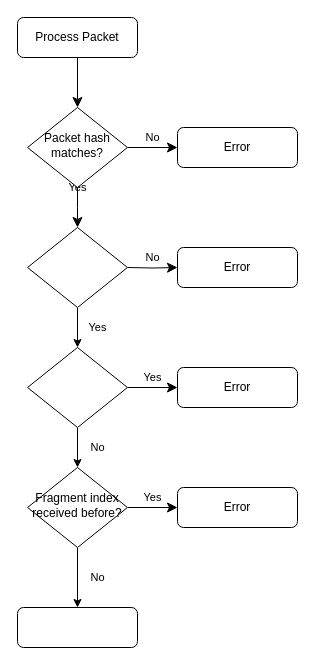
Image size: 315x665. Some labels were removed from this diagram. Each missing label, with the centre of its shape:
Add to received Hop2Hop fragments: point (77, 627)
Fragment amount matches?: point (77, 267)
Fragment index larger than fragment amount?: point (77, 387)
